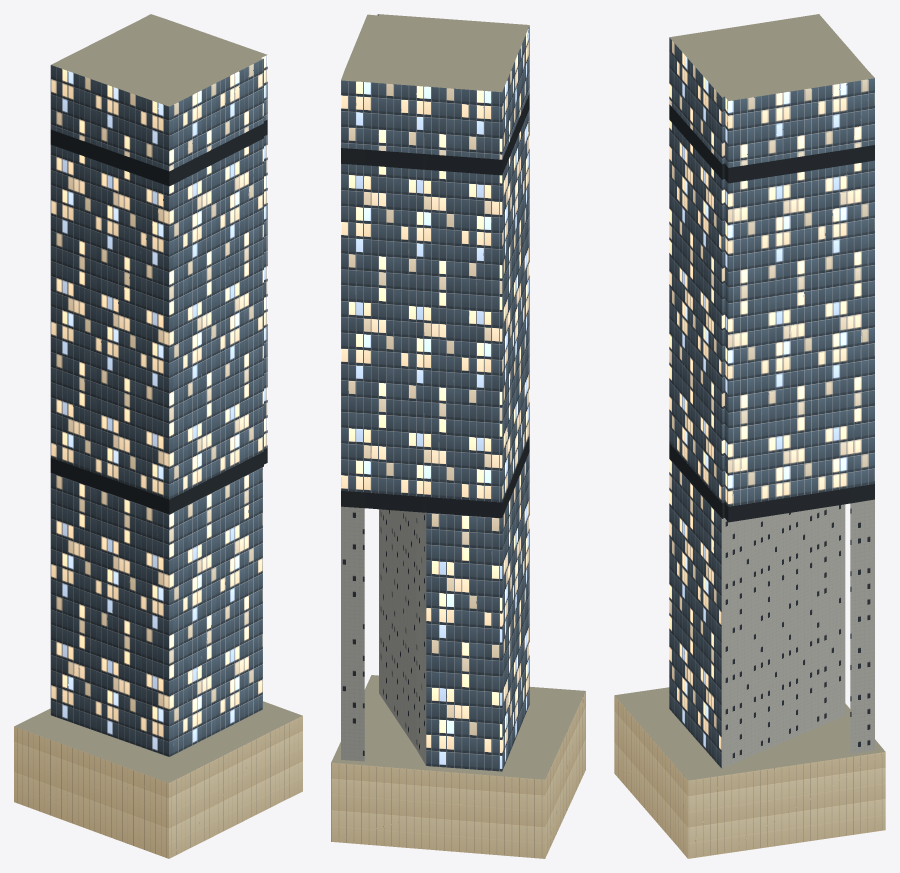
Rendered from intercontinental.glb.
3 views of the same model, side by side, from view 1: azimuth 30°, elevation 25°; view 2: azimuth 150°, elevation 25°; view 3: azimuth 270°, elevation 25° (orthographic). The views are drawn at different scales.
Visible parts, largest first — view 1: intercontinental; view 2: intercontinental; view 3: intercontinental.
Boxes of the visible parts, x1,y1,x2,y2 form: intercontinental: (14,14,302,858); intercontinental: (331,14,585,858); intercontinental: (614,14,885,858).
Size of the model in its own units: 53.8 by 164 by 53.8.
Materials: 6 (4 with a texture image).
